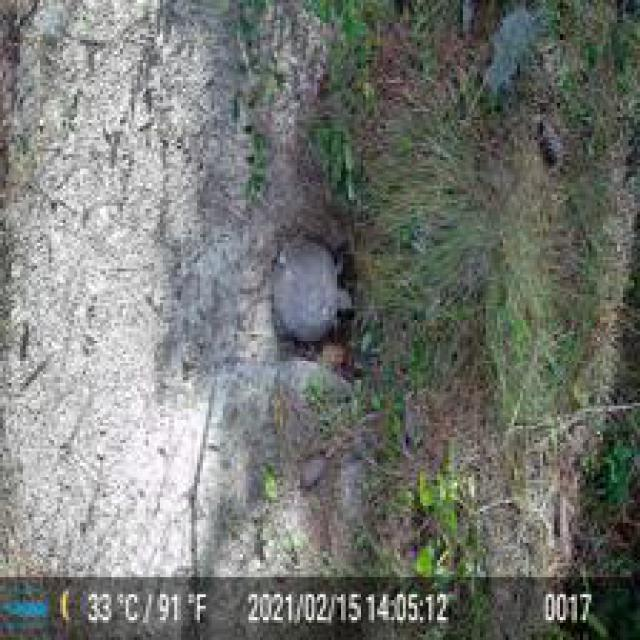tortoise: (266, 232, 354, 358)
